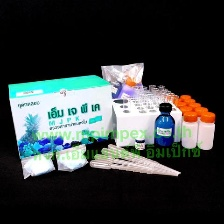book: (5, 73, 120, 164)
bottle: (196, 112, 217, 151), (181, 111, 200, 151)
insecticide: (153, 102, 178, 153), (133, 132, 145, 152)
